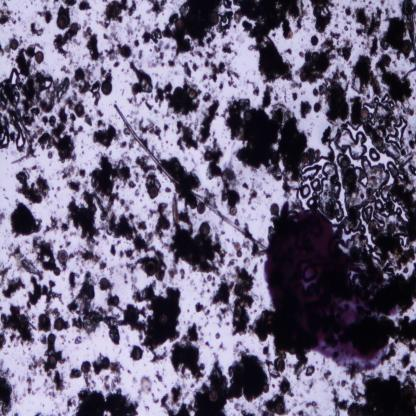Air bubble: (334, 129, 369, 162), (384, 118, 408, 148), (297, 166, 321, 179), (368, 146, 383, 164), (299, 184, 310, 200)
Anthropogenic: (112, 103, 268, 248)
Background material: (0, 45, 69, 153), (225, 96, 306, 182), (342, 157, 416, 215), (65, 272, 122, 346), (161, 2, 223, 61), (140, 280, 184, 361), (210, 349, 270, 401), (223, 1, 305, 39), (98, 197, 148, 253), (347, 376, 416, 415), (206, 145, 243, 215), (171, 228, 225, 274), (170, 325, 206, 383), (253, 37, 295, 86), (66, 192, 101, 247), (75, 387, 140, 416), (160, 150, 206, 190), (382, 0, 416, 52), (320, 69, 352, 123), (375, 61, 416, 103), (92, 156, 128, 200), (0, 302, 35, 347), (232, 263, 253, 336), (154, 82, 200, 113), (15, 165, 51, 204), (351, 56, 383, 96), (10, 247, 45, 280), (297, 50, 332, 82), (24, 278, 63, 306), (8, 202, 41, 235), (39, 132, 76, 160), (97, 1, 137, 26), (100, 23, 122, 68), (200, 101, 222, 144), (308, 1, 334, 35), (178, 388, 212, 414), (129, 59, 154, 94), (352, 7, 382, 36), (0, 361, 15, 414), (222, 57, 244, 93), (34, 238, 57, 272), (120, 302, 144, 334), (174, 120, 198, 151), (44, 343, 71, 370), (210, 280, 235, 309), (84, 26, 103, 62), (330, 30, 352, 61), (172, 195, 193, 227), (86, 62, 114, 86), (69, 251, 106, 269), (129, 89, 156, 113), (154, 203, 172, 238), (142, 113, 163, 143), (110, 356, 131, 384), (92, 125, 116, 149), (52, 160, 76, 184), (147, 42, 168, 69), (119, 128, 137, 159), (1, 276, 26, 298), (203, 60, 226, 81), (54, 32, 71, 60), (138, 155, 155, 183), (124, 255, 146, 276), (48, 215, 69, 237), (59, 54, 80, 74), (265, 83, 280, 111), (146, 1, 168, 20), (67, 168, 86, 189), (78, 83, 101, 100), (330, 388, 347, 411), (135, 376, 154, 396), (180, 59, 199, 79), (51, 369, 65, 395), (159, 393, 176, 414), (134, 13, 152, 32), (241, 180, 255, 204), (164, 258, 180, 279), (250, 241, 264, 264), (216, 306, 231, 327), (397, 351, 413, 370), (28, 355, 43, 375), (42, 378, 56, 399), (24, 376, 37, 398), (93, 107, 106, 129), (112, 249, 134, 262), (11, 153, 34, 165), (168, 385, 183, 403), (142, 32, 161, 46), (64, 120, 84, 133), (45, 303, 61, 319), (299, 100, 313, 118), (126, 25, 140, 43), (128, 286, 144, 301), (39, 7, 53, 24), (82, 372, 95, 390), (0, 6, 12, 25), (322, 127, 334, 146), (194, 302, 210, 316), (400, 105, 416, 119), (233, 341, 250, 354), (370, 36, 379, 60), (66, 395, 76, 416), (0, 41, 11, 59), (0, 264, 13, 278), (30, 23, 44, 36), (28, 162, 43, 174), (406, 133, 416, 151), (206, 275, 216, 292), (83, 12, 93, 29), (100, 373, 110, 390), (52, 404, 66, 416), (344, 1, 352, 22), (93, 354, 101, 375), (121, 43, 132, 58), (73, 330, 84, 345), (223, 43, 234, 57), (203, 90, 213, 105), (79, 0, 94, 10), (68, 368, 80, 380), (203, 82, 215, 94), (39, 325, 55, 334), (154, 371, 164, 385), (38, 332, 48, 346), (305, 364, 316, 376), (67, 94, 75, 110), (250, 84, 259, 98), (290, 80, 304, 89), (280, 46, 294, 55), (406, 364, 416, 376), (160, 121, 170, 132), (60, 0, 78, 6), (168, 58, 177, 70), (263, 191, 274, 200), (204, 340, 215, 349), (361, 40, 370, 51), (216, 80, 225, 91), (107, 244, 114, 258), (306, 400, 318, 408), (291, 89, 299, 101), (58, 332, 66, 344), (312, 86, 320, 98), (0, 209, 6, 225), (323, 369, 331, 380), (178, 268, 186, 279), (51, 0, 59, 11), (281, 87, 287, 101), (101, 234, 109, 244), (152, 392, 158, 405), (84, 116, 92, 125), (200, 288, 206, 300), (11, 15, 21, 22), (166, 185, 173, 195), (399, 66, 406, 76), (219, 342, 227, 350), (74, 39, 81, 48), (138, 50, 145, 59), (10, 54, 15, 66), (343, 24, 350, 32), (212, 333, 220, 340), (111, 377, 115, 391), (366, 0, 374, 7), (134, 40, 141, 48), (122, 277, 127, 287), (174, 68, 180, 76), (153, 20, 159, 28), (18, 30, 22, 42), (378, 0, 385, 6), (295, 411, 305, 415), (2, 195, 10, 200), (1, 0, 7, 6), (186, 320, 192, 326), (55, 185, 62, 190), (254, 266, 258, 274), (146, 404, 150, 412), (0, 245, 6, 250), (35, 411, 40, 416), (121, 88, 124, 96), (186, 308, 190, 314), (122, 69, 126, 74), (154, 74, 158, 79), (306, 3, 310, 8), (22, 350, 26, 355), (57, 204, 60, 210), (81, 148, 84, 154), (17, 374, 20, 380), (42, 6, 46, 10), (30, 1, 33, 6), (28, 347, 31, 352), (3, 188, 6, 192), (335, 25, 338, 29)
Diatom: (129, 345, 144, 362), (144, 260, 158, 277), (401, 39, 413, 57), (274, 398, 287, 414), (57, 15, 70, 30), (57, 249, 69, 265), (199, 221, 211, 236), (101, 80, 113, 95), (80, 360, 92, 374), (74, 66, 85, 81), (74, 103, 85, 118), (54, 318, 66, 331), (274, 358, 285, 372), (35, 50, 46, 64), (101, 356, 111, 371), (208, 390, 219, 403), (46, 356, 57, 369), (381, 53, 392, 66), (38, 313, 49, 326), (270, 202, 280, 216), (172, 160, 182, 174), (175, 20, 185, 32), (280, 381, 290, 393), (9, 38, 19, 50), (148, 186, 158, 198), (0, 331, 7, 347), (197, 204, 206, 216), (100, 278, 109, 290), (70, 22, 79, 34), (340, 157, 350, 167), (310, 34, 319, 45), (244, 109, 252, 121), (361, 108, 369, 120), (113, 295, 120, 308), (388, 223, 396, 234), (48, 334, 56, 345), (53, 265, 61, 276), (302, 150, 309, 162), (314, 104, 321, 113), (236, 250, 243, 258), (234, 242, 241, 249)
Pen: (265, 218, 398, 373)
